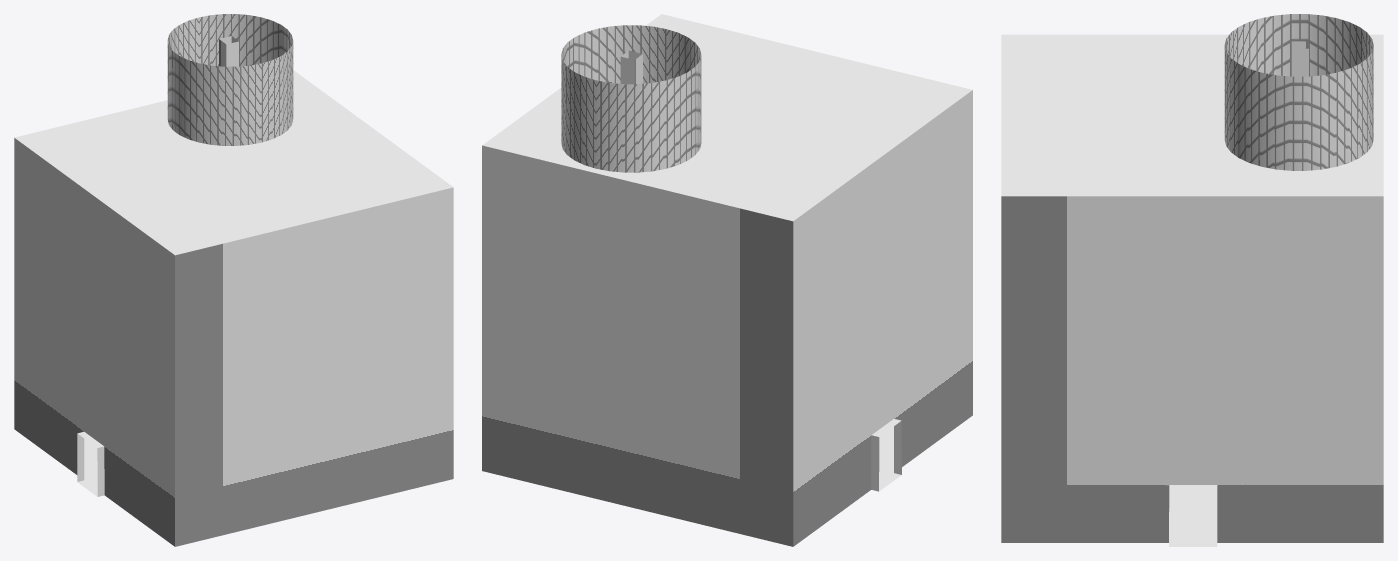
Rendered from Spiral_Stair_Rm_Coll.fbx.
3 renders of one model, left to right at view 1: azimuth 30°, elevation 25°; view 2: azimuth 150°, elevation 25°; view 3: azimuth 270°, elevation 25°, orthographic. The views are drawn at different scales.
Visible parts, largest first — view 1: P_Spiral_Stair_Rm_Coll; view 2: P_Spiral_Stair_Rm_Coll; view 3: P_Spiral_Stair_Rm_Coll.
Part boxes in pixels (x1,y1,x2,y2): P_Spiral_Stair_Rm_Coll: (14,14,453,546); P_Spiral_Stair_Rm_Coll: (482,14,972,546); P_Spiral_Stair_Rm_Coll: (1001,14,1383,546).
Bounding box in the file's own units: 29.2 × 35.37 × 27.81.
